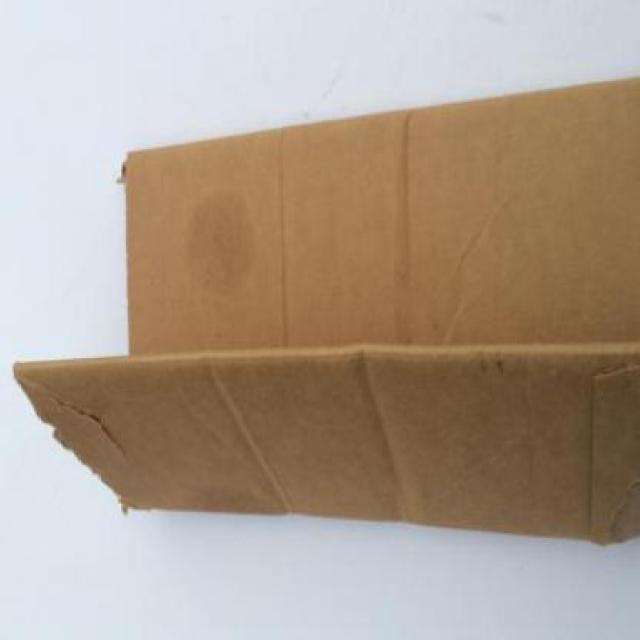box: (8, 57, 640, 560)
